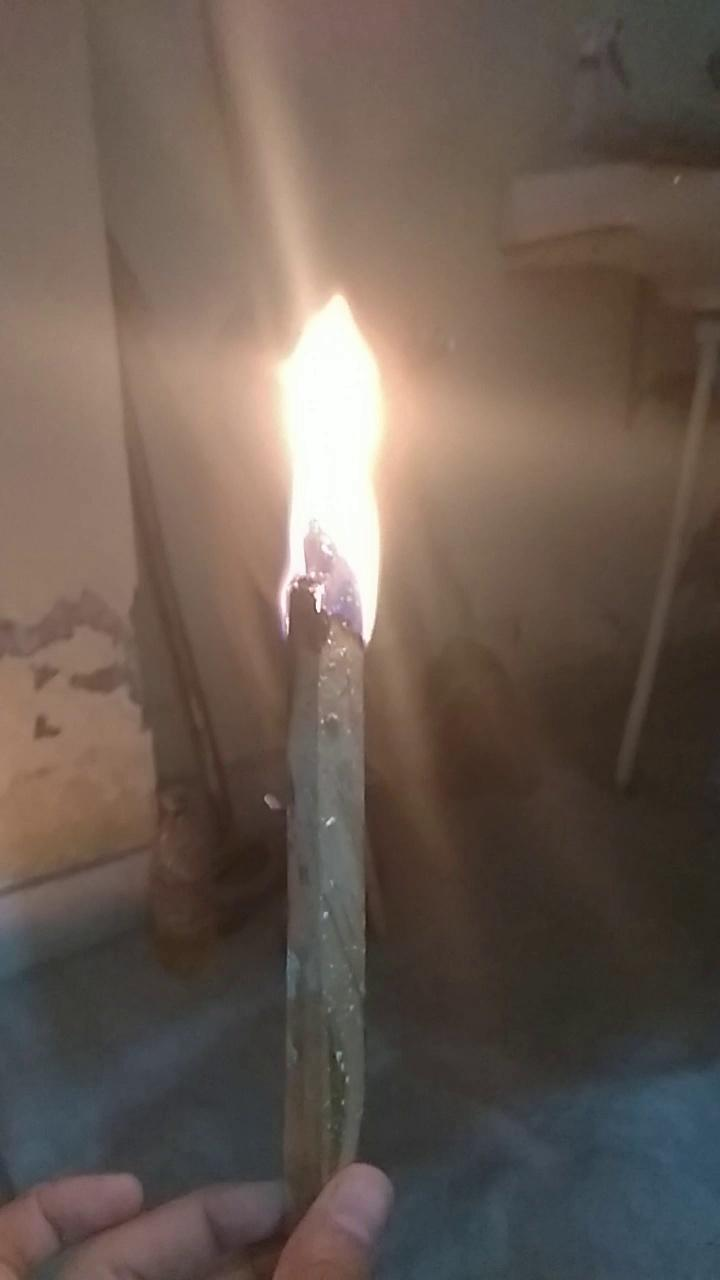fire: (258, 269, 426, 631)
